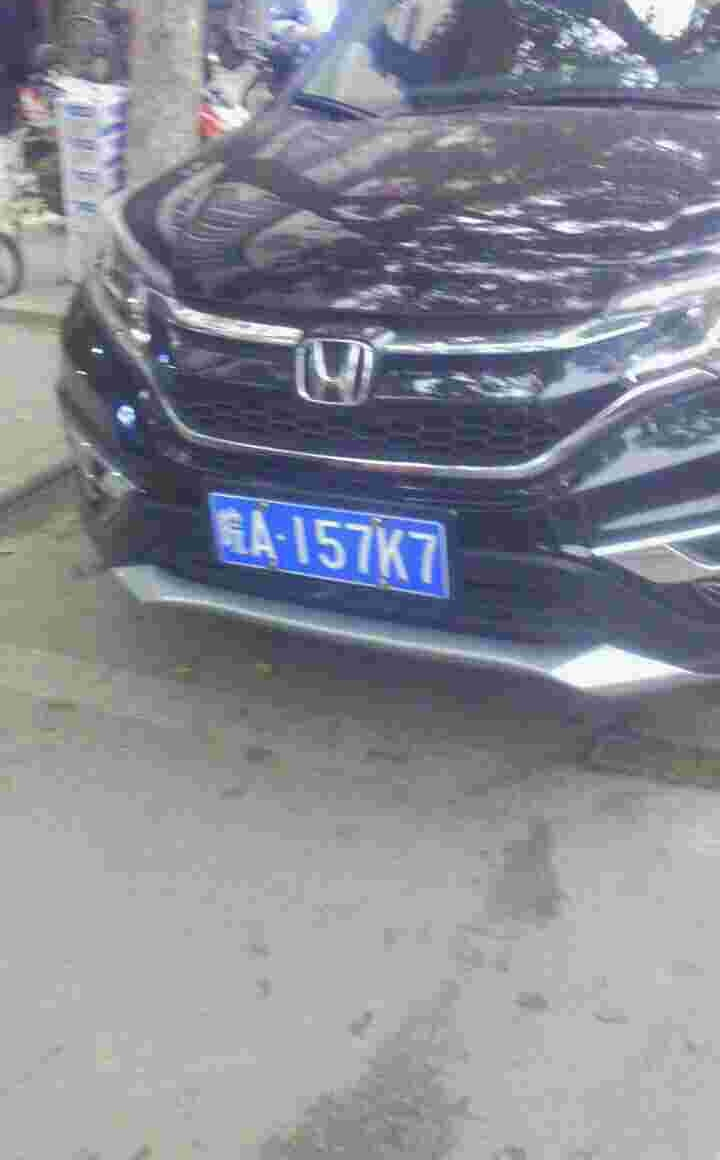license_plate: (216, 503, 461, 589)
